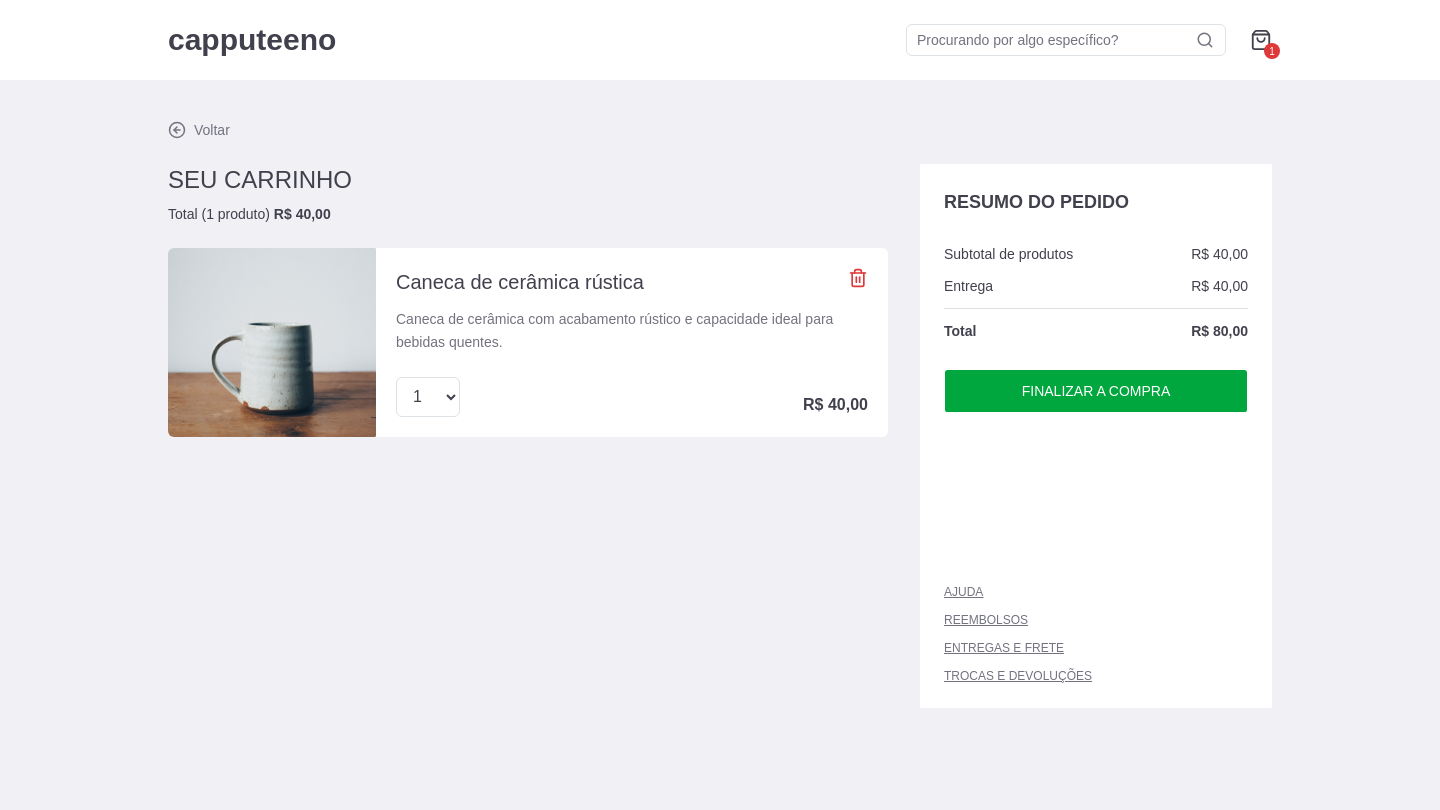
Cart › should remove an item
Click the button named "Remover Caneca de cerâmica rústica do carrinho" at [858, 278], box [848,268,868,288]
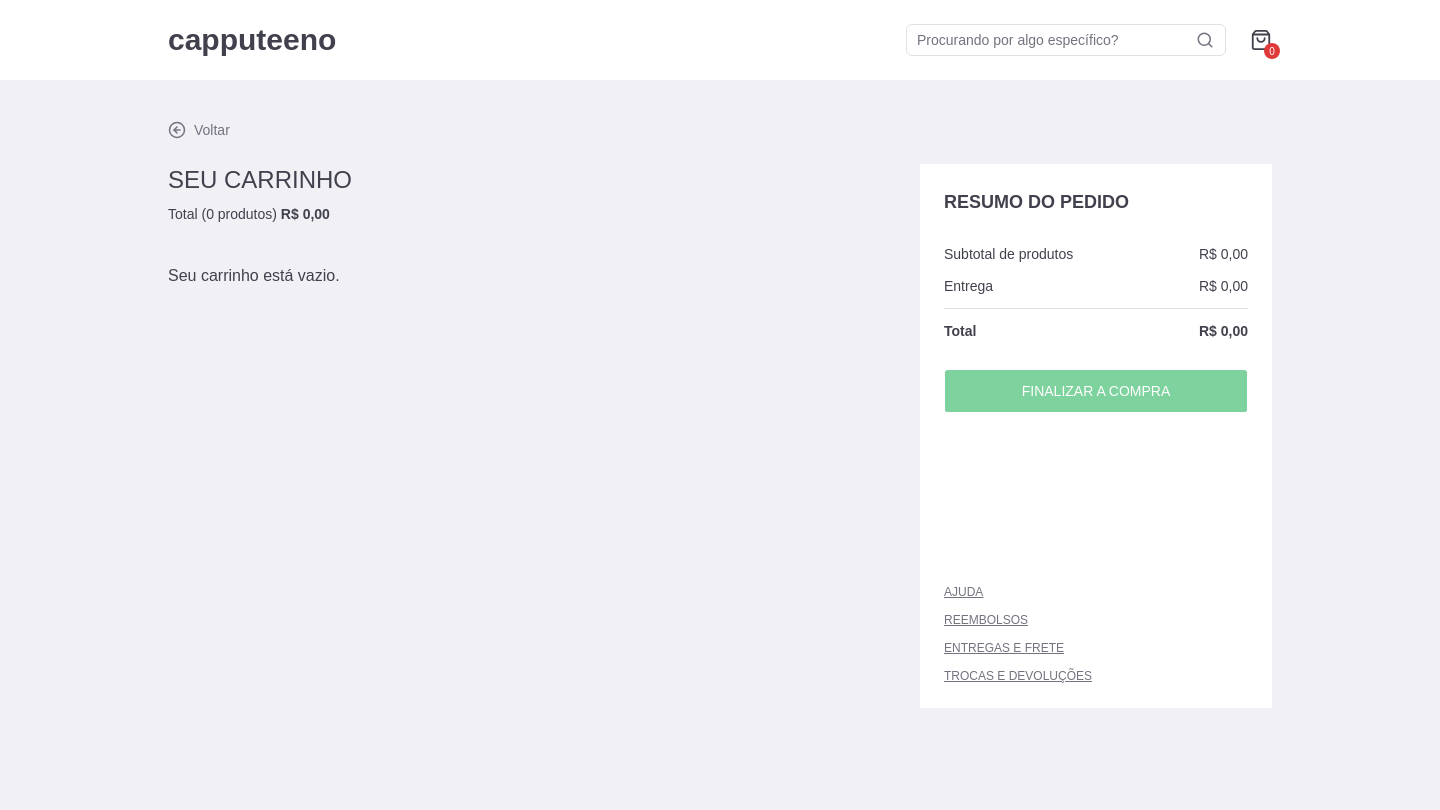
Expected: the text "Seu carrinho está vazio." is shown, [168,267,340,284]
